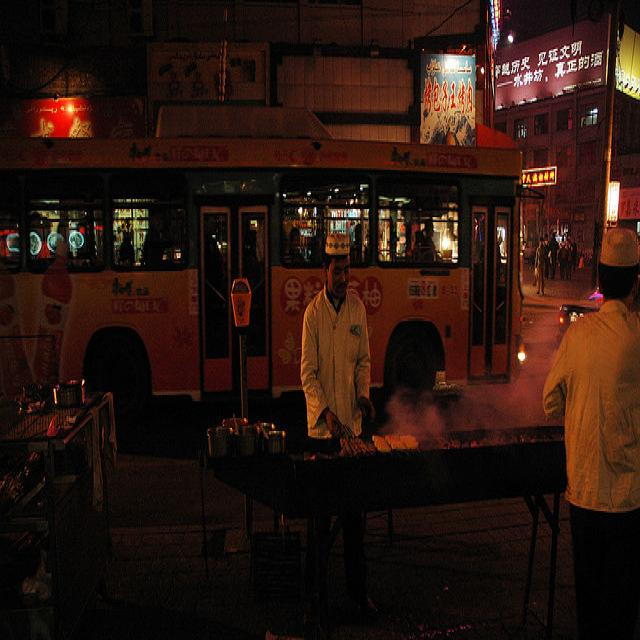Bus: (0, 98, 528, 429)
People: (292, 216, 397, 640), (559, 217, 640, 640), (528, 228, 561, 311), (554, 220, 582, 300)
Table: (191, 423, 595, 640), (0, 385, 130, 640)
